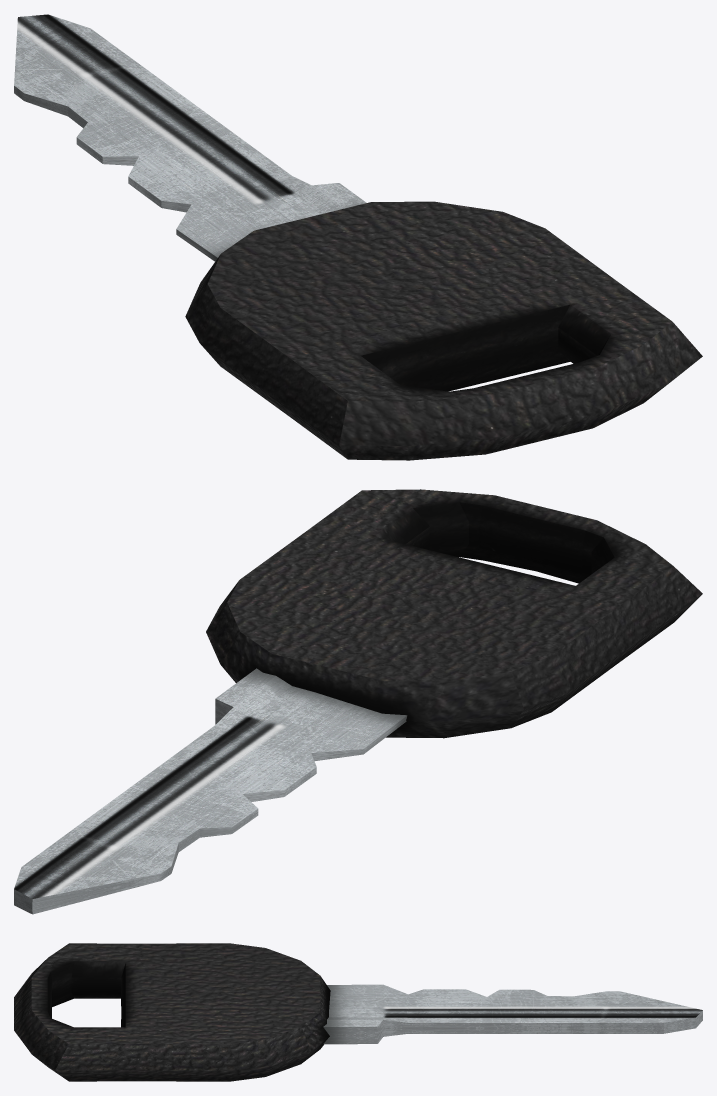
File: Key_For_Drawers.fbx
The picture shows the model from 3 angles, top to bottom: view 1: azimuth 30°, elevation 25°; view 2: azimuth 150°, elevation 25°; view 3: azimuth 270°, elevation 25°; orthographic projection. The views are drawn at different scales.
Parts seen in each view (by area): view 1: polySurface4; view 2: polySurface4; view 3: polySurface4.
Part boxes in pixels (<box>): polySurface4: <box>14,14,702,460</box>; polySurface4: <box>14,489,702,914</box>; polySurface4: <box>14,943,702,1081</box>.
Bounding box in the file's own units: 3.62 × 0.5583 × 9.34.
